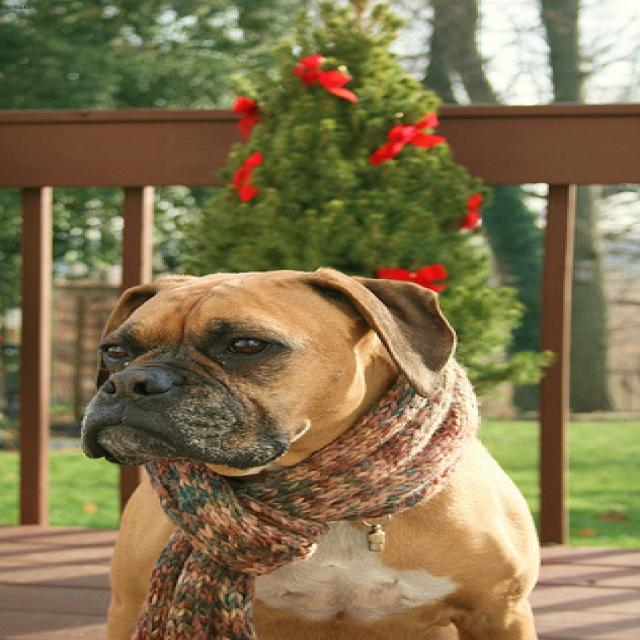dog-boxer: (67, 264, 468, 637)
